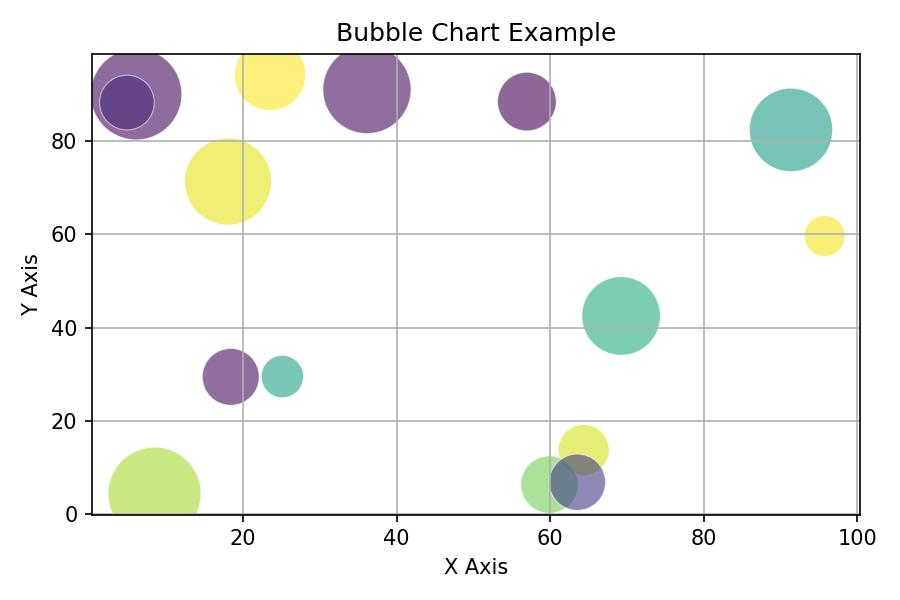axis: (59, 507, 893, 552), (54, 48, 103, 542)
circle: (93, 54, 183, 138), (748, 88, 835, 172), (325, 50, 412, 132), (187, 141, 271, 220), (108, 449, 202, 513), (583, 277, 660, 353), (234, 52, 308, 110), (498, 72, 556, 133), (203, 350, 259, 403), (559, 423, 613, 473), (806, 214, 848, 257), (261, 356, 303, 398)
